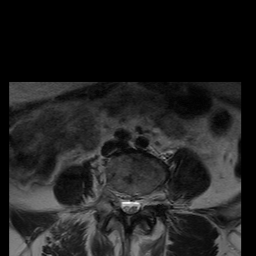CCS_normal: (126, 191, 133, 220)
LFS_normal: (141, 187, 149, 213)
LLS_normal: (134, 194, 141, 217)
RFS_normal: (110, 186, 119, 214)
RLS_normal: (119, 192, 126, 217)
